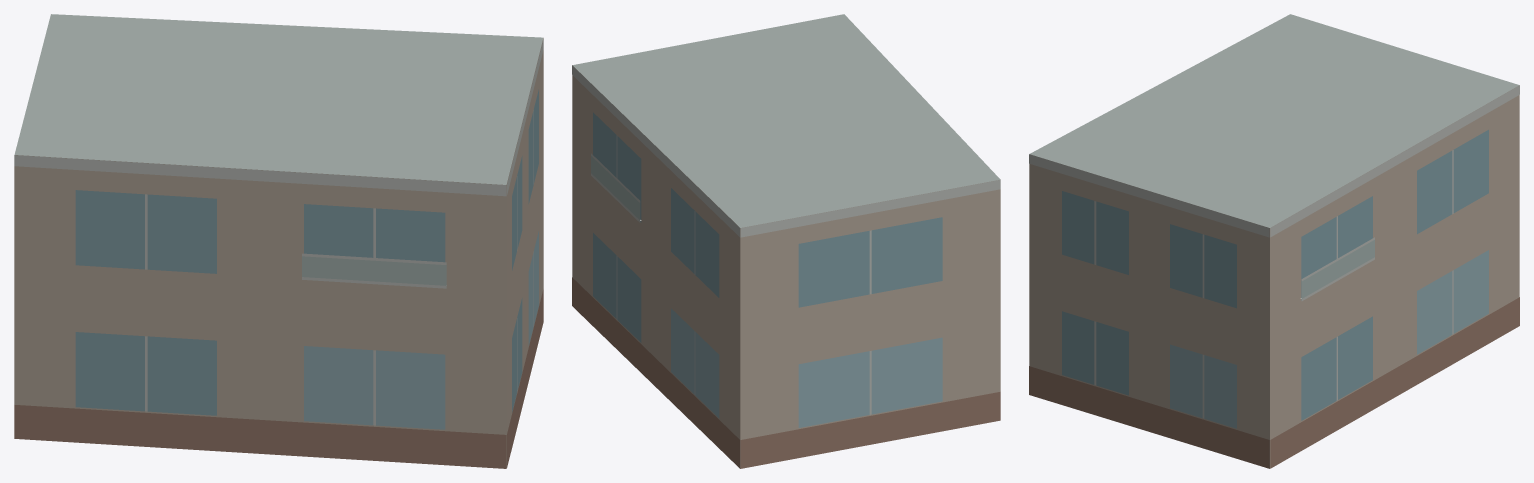
Rendered from survey-upis-32922007.glb.
3 views of the same model, side by side, from view 1: azimuth 30°, elevation 25°; view 2: azimuth 150°, elevation 25°; view 3: azimuth 270°, elevation 25° (orthographic). The views are drawn at different scales.
Parts seen in each view (by area): view 1: survey-upis-32922007.tmp; view 2: survey-upis-32922007.tmp; view 3: survey-upis-32922007.tmp.
Boxes of the visible parts, x1=… form: survey-upis-32922007.tmp: x1=14, y1=14, x2=543, y2=468; survey-upis-32922007.tmp: x1=572, y1=14, x2=1000, y2=468; survey-upis-32922007.tmp: x1=1029, y1=14, x2=1519, y2=468.
Bounding box in the file's own units: 11.64 × 6.1 × 11.27.
